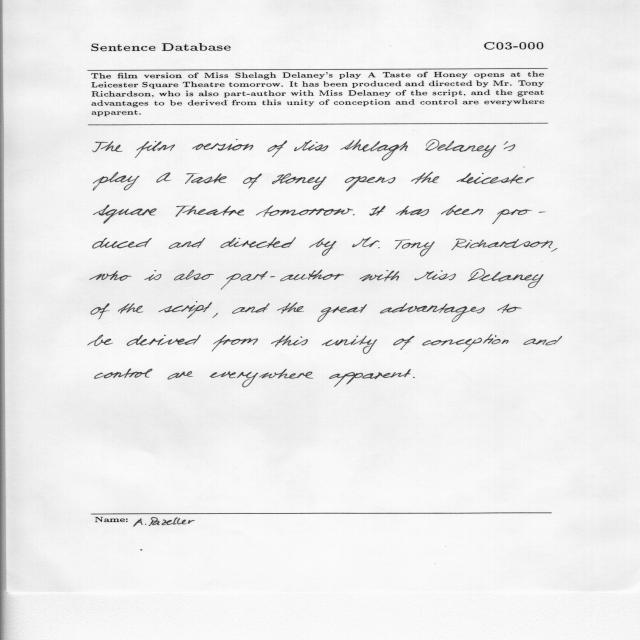word: (221, 270, 344, 290), (380, 303, 485, 322), (210, 369, 314, 387), (426, 139, 516, 158), (422, 334, 509, 352), (340, 139, 408, 161), (329, 369, 411, 387), (468, 269, 544, 288), (256, 205, 353, 217), (93, 205, 157, 223), (451, 239, 553, 250), (322, 336, 377, 354), (272, 173, 327, 190), (158, 302, 212, 319), (317, 304, 367, 322), (94, 172, 140, 191), (457, 173, 534, 184), (220, 238, 296, 249), (127, 335, 201, 346), (492, 209, 545, 224), (345, 176, 395, 191), (176, 206, 244, 217), (212, 335, 258, 351), (193, 139, 254, 151), (135, 141, 175, 158), (395, 240, 435, 257), (93, 238, 152, 248), (95, 369, 153, 379), (309, 238, 336, 256), (360, 270, 399, 282), (185, 173, 227, 184), (271, 335, 308, 347), (441, 205, 483, 215), (232, 303, 270, 314), (90, 271, 131, 281), (415, 271, 456, 281), (174, 270, 214, 280), (169, 238, 205, 249), (294, 140, 328, 151), (523, 336, 562, 345), (411, 172, 439, 184), (93, 141, 123, 152), (396, 206, 429, 216), (277, 302, 304, 314), (268, 140, 287, 157), (352, 238, 380, 249), (91, 303, 110, 319), (88, 334, 113, 346), (394, 336, 415, 350), (243, 174, 262, 189), (118, 303, 143, 314), (497, 304, 522, 314), (167, 371, 193, 380), (145, 270, 162, 281), (370, 205, 386, 216), (156, 172, 171, 183), (212, 313, 218, 318), (551, 248, 557, 252), (353, 215, 355, 216), (413, 377, 415, 378)
